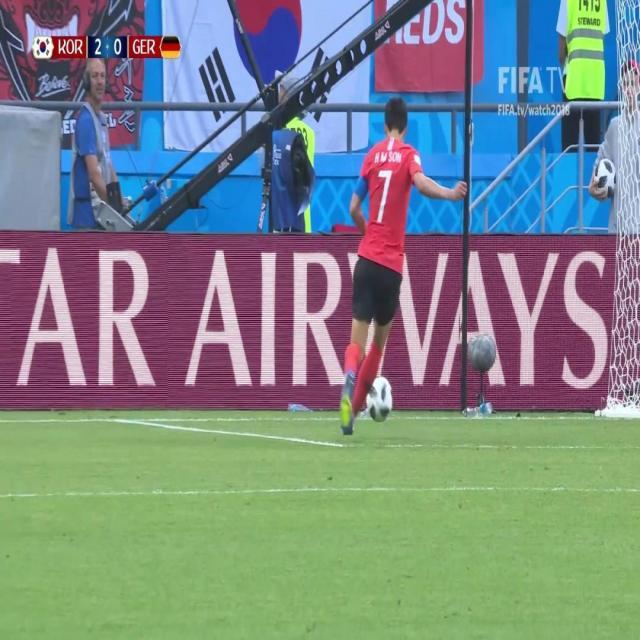ball: (364, 370, 397, 430)
player: (330, 90, 461, 435)
